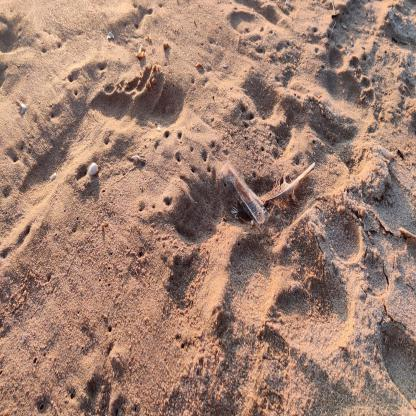plastik: (218, 158, 270, 234)
